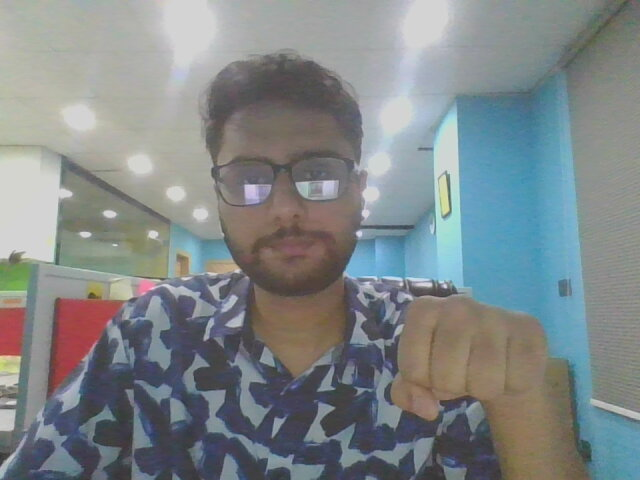yes: (380, 276, 587, 439)
